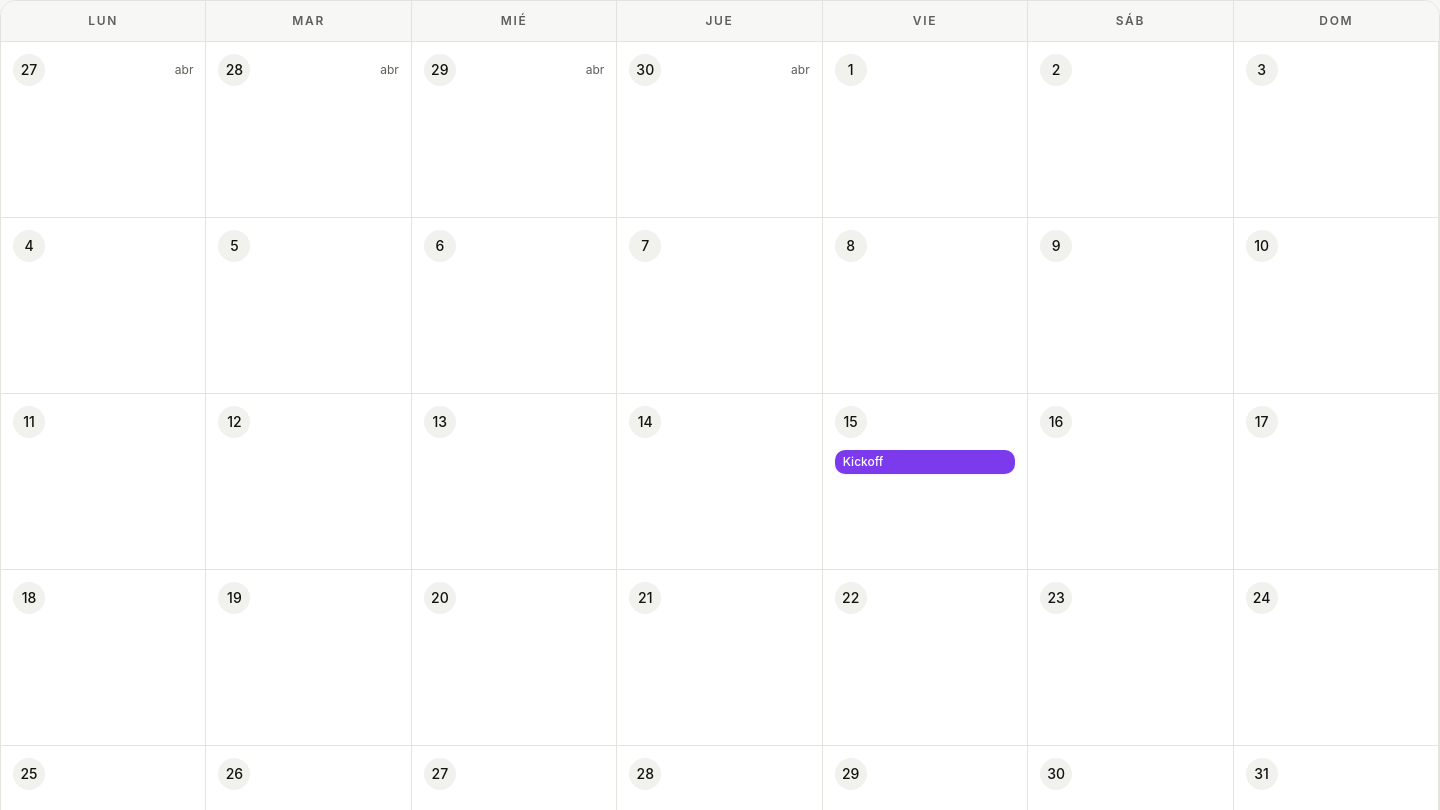
Test: CalendarMonthView › abre el diálogo de edición al pulsar un evento
Click the button "Kickoff" at (925, 462), box [835, 450, 1015, 474]
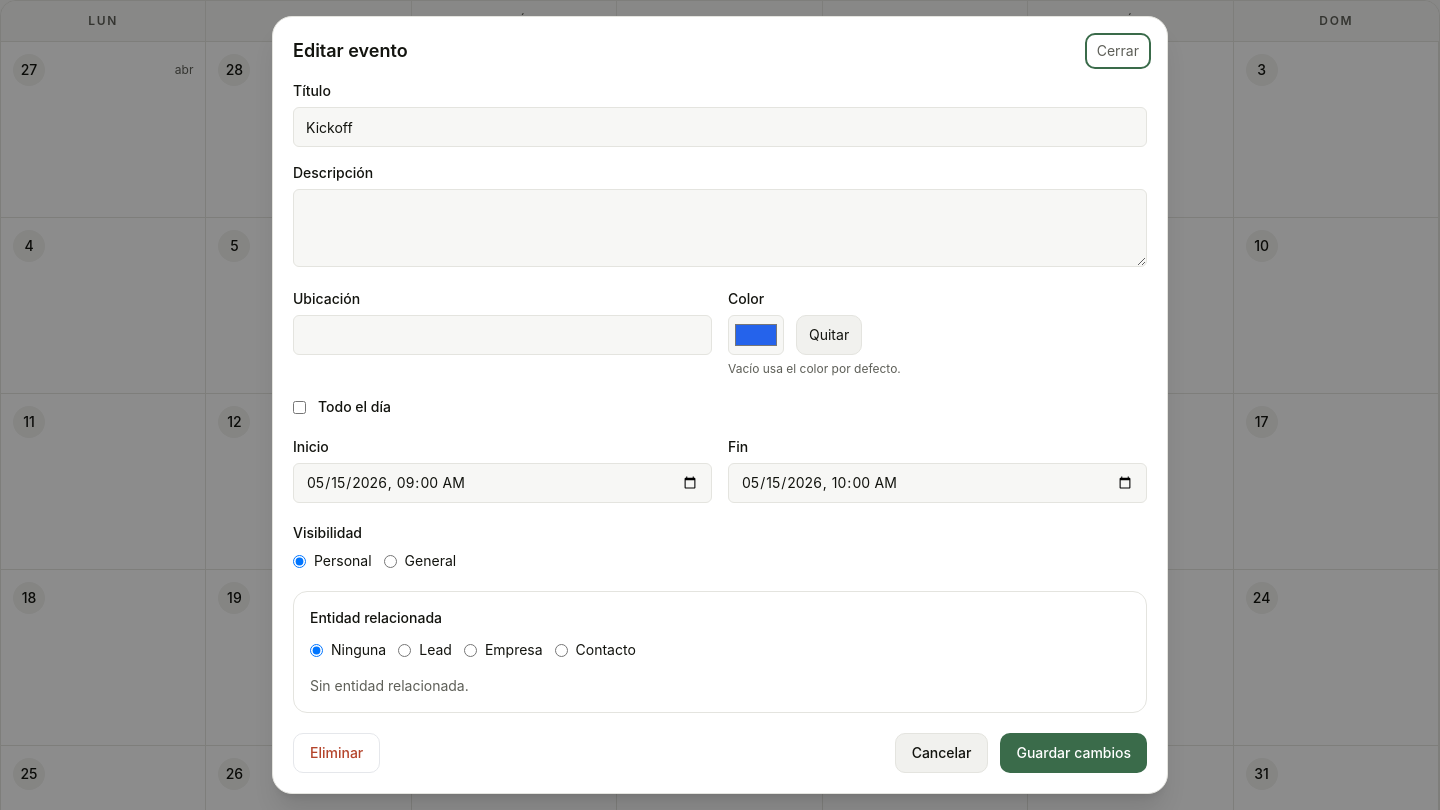
Expected: the heading "Editar evento" is shown, [293, 37, 408, 65]
Expected: the field labelled "Título" holds "Kickoff", [293, 107, 1147, 147]
